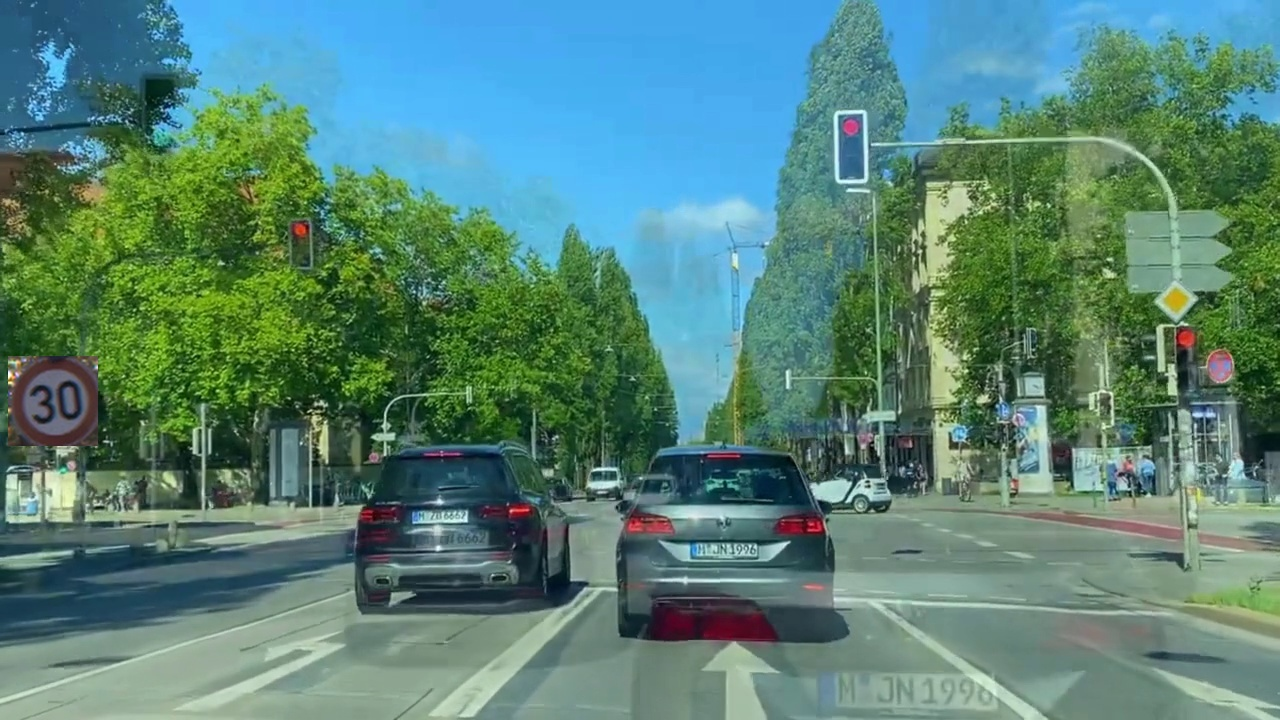Speed 30: (8, 356, 98, 446)
